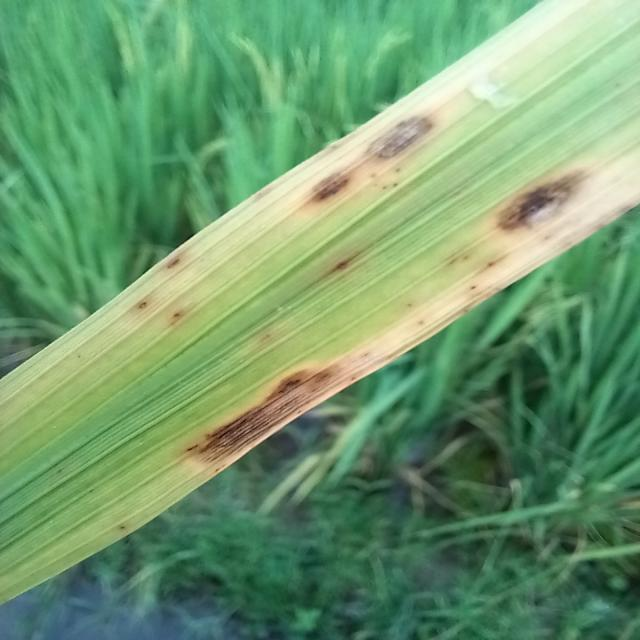Leaf_Blast: (185, 348, 382, 474), (492, 169, 589, 236), (298, 167, 368, 211)
